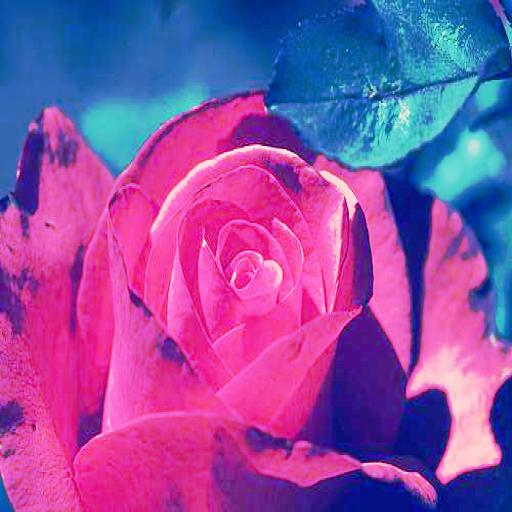rose: (1, 87, 512, 512)
